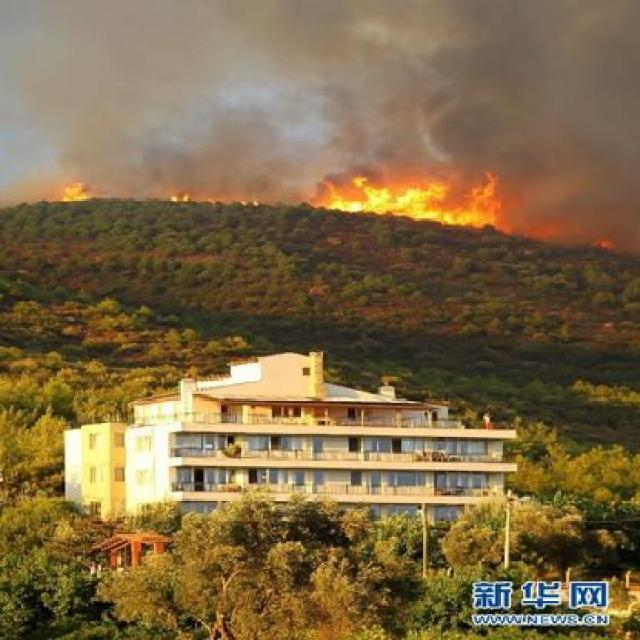Fire: (318, 170, 508, 234), (174, 193, 276, 215), (47, 180, 87, 210), (595, 232, 611, 244)
